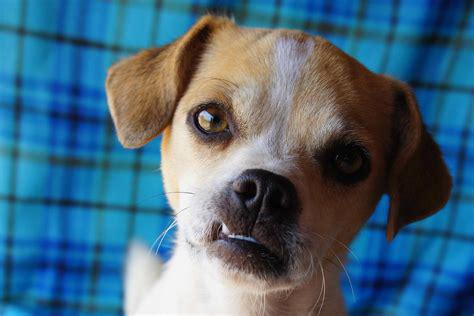dog: (107, 15, 450, 316)
